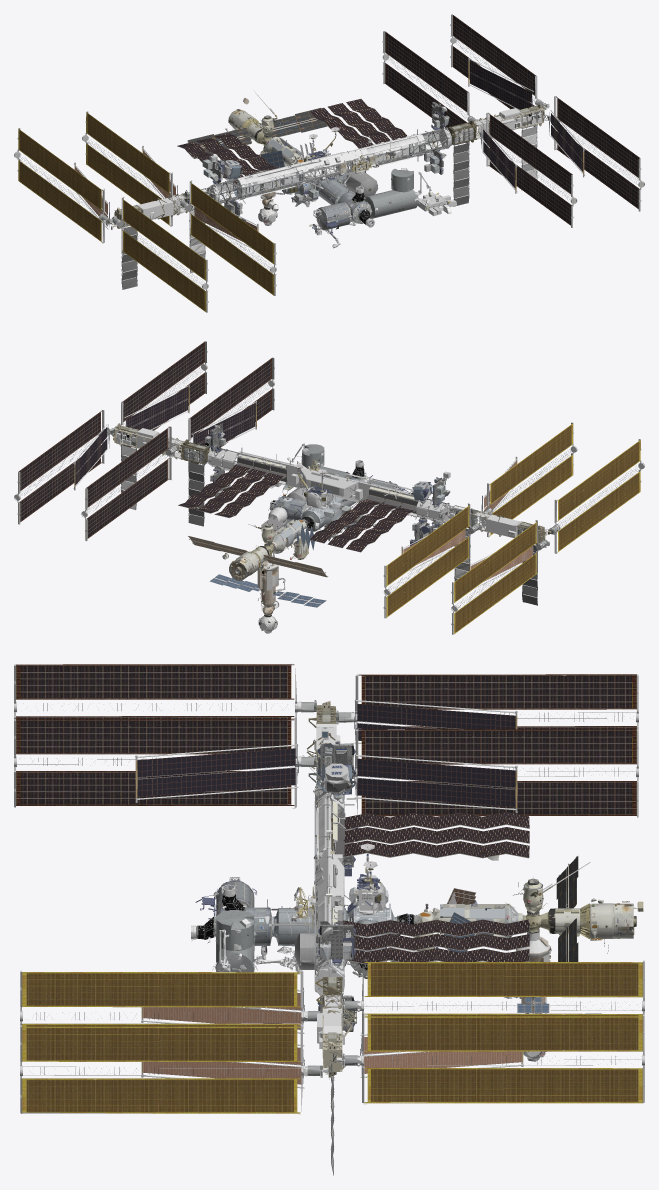
Rendered from iss.glb.
The picture shows the model from 3 angles, top to bottom: view 1: azimuth 30°, elevation 25°; view 2: azimuth 150°, elevation 25°; view 3: azimuth 270°, elevation 25°; orthographic projection. The views are drawn at different scales.
Parts seen in each view (by area): view 1: Airlock, S4_Array_1A_Details_Misc, S6_3B_Array_Details_Misc, S6_1B_Array_Details_Misc, Payload_MISSE_FF, S4_Array_3A_Details_Misc, P4_Array_4A_Details_Misc, P4_Array_2A_Details_Misc, P6_2B_Array_Details_Misc, P6_4B_Array_Details_Misc, P1_Radiator_Details_Misc, SM_Details_AFAR_Antenna (+20 smaller); view 2: S4_Array_3A_Details_Misc, P4_Array_2A_Details_Misc, S6_1B_Array_Details_Misc, S6_3B_Array_Details_Misc, S4_Array_1A_Details_Misc, Airlock, P6_4B_Array_Details_Misc, S1_Radiator_Details_Misc, P1_Radiator_Details_Misc, P6_2B_Array_Details_Misc, P4_Array_4A_Details_Misc, SM_Details_AFAR_Antenna (+18 smaller); view 3: P6_2B_Array_Details_Misc, P6_4B_Array_Details_Misc, S4_Array_1A_Details_Misc, S4_Array_3A_Details_Misc, P4_Array_2A_Details_Misc, S6_3B_Array_Details_Misc, P4_Array_4A_Details_Misc, S6_1B_Array_Details_Misc, S1_Radiator_Details_Misc, P1_Radiator_Details_Misc, IROSA_Deployed_S41A.Details, IROSA_Deployed_S43A.Details (+19 smaller).
Boxes of the visible parts, x1,y1,x2,y2 form: Airlock: (211,103,451,235); S4_Array_1A_Details_Misc: (180,180,276,295); S6_3B_Array_Details_Misc: (112,197,208,312); S6_1B_Array_Details_Misc: (14,128,109,243); Payload_MISSE_FF: (212,105,450,203); S4_Array_3A_Details_Misc: (82,111,174,226); P4_Array_4A_Details_Misc: (480,112,577,227); P4_Array_2A_Details_Misc: (382,31,476,145); P6_2B_Array_Details_Misc: (547,96,644,211); P6_4B_Array_Details_Misc: (450,14,546,126); P1_Radiator_Details_Misc: (309,99,416,156); SM_Details_AFAR_Antenna: (187,98,327,158); S4_Array_3A_Details_Misc: (383,503,481,618); P4_Array_2A_Details_Misc: (81,426,177,541); S6_1B_Array_Details_Misc: (451,520,546,634); S6_3B_Array_Details_Misc: (548,439,644,553); S4_Array_1A_Details_Misc: (484,422,577,537); Airlock: (205,425,447,537); P6_4B_Array_Details_Misc: (14,410,110,524); S1_Radiator_Details_Misc: (309,486,417,552); P1_Radiator_Details_Misc: (178,454,287,517); P6_2B_Array_Details_Misc: (111,341,207,454); P4_Array_4A_Details_Misc: (179,357,274,471); SM_Details_AFAR_Antenna: (188,536,328,580); P6_2B_Array_Details_Misc: (20,1024,322,1114); P6_4B_Array_Details_Misc: (342,1014,644,1104); S4_Array_1A_Details_Misc: (14,718,316,808); S4_Array_3A_Details_Misc: (355,728,638,817); P4_Array_2A_Details_Misc: (342,959,644,1044); S6_3B_Array_Details_Misc: (14,664,316,748); P4_Array_4A_Details_Misc: (20,969,322,1026); S6_1B_Array_Details_Misc: (336,673,638,729); S1_Radiator_Details_Misc: (331,801,529,860); P1_Radiator_Details_Misc: (332,907,529,964); IROSA_Deployed_S41A.Details: (135,744,298,802); IROSA_Deployed_S43A.Details: (354,754,517,813).
Size of the model in its own units: 109 by 33.21 by 80.53.
41 materials, 39 textured.
